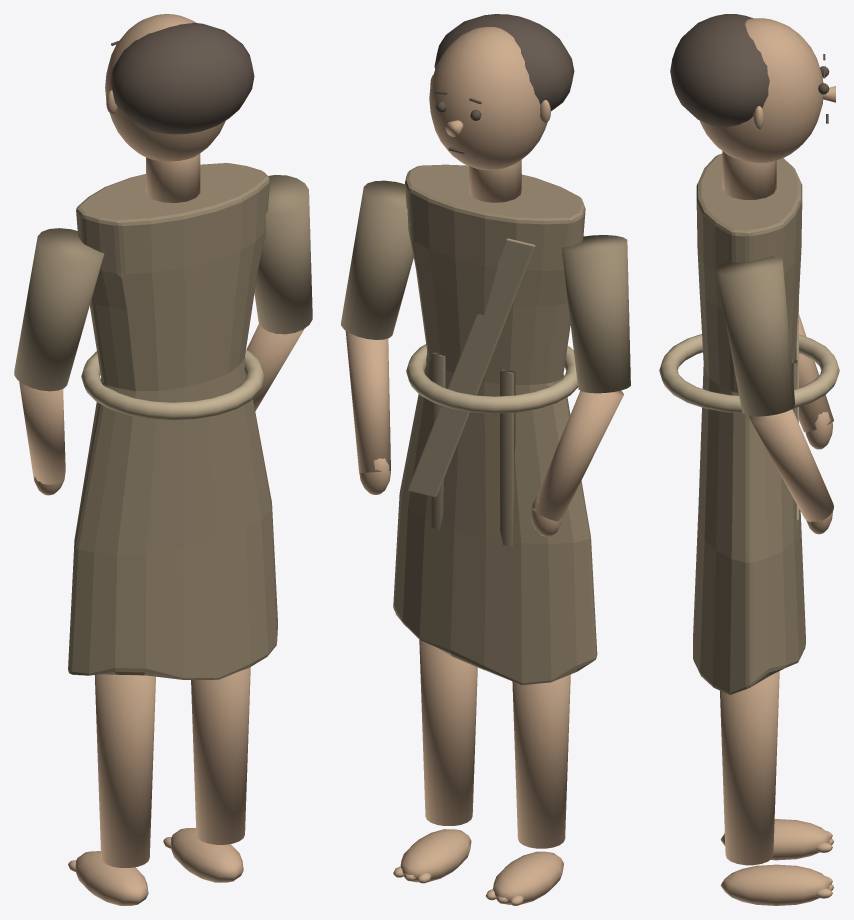
File: man.glb
3 views of the same model, side by side, from view 1: azimuth 30°, elevation 25°; view 2: azimuth 150°, elevation 25°; view 3: azimuth 270°, elevation 25° (orthographic). The views are drawn at different scales.
Visible parts, largest first — view 1: Robe, Hair, LLowerLeg, LSleeve, RLowerLeg, RSleeve, Belt, Head, LForearm, LFoot, RFoot, Neck (+1 smaller); view 2: Robe, Head, LSleeve, RLowerLeg, LLowerLeg, RSleeve, Sash, LForearm, RForearm, Hair, Belt, LFoot (+5 smaller); view 3: Robe, RLowerLeg, RSleeve, Head, Hair, RForearm, Belt, RFoot, Neck, LFoot, LForearm, LHand.
Part boxes in pixels (x1,y1,x2,y2): Robe: (68,163,277,679); Hair: (110,22,254,134); LLowerLeg: (94,674,155,867); LSleeve: (14,228,104,391); RLowerLeg: (191,667,250,844); RSleeve: (254,175,312,334); Belt: (81,349,264,420); Head: (105,14,225,161); LForearm: (19,381,65,484); LFoot: (75,851,148,905); RFoot: (170,828,243,882); Neck: (146,153,200,202); Robe: (393,164,597,685); Head: (429,27,547,170); LSleeve: (562,235,630,393); RLowerLeg: (419,639,477,825); LLowerLeg: (512,674,570,848); RSleeve: (341,180,413,339); Sash: (408,238,535,497); LForearm: (532,390,623,521); RForearm: (345,331,390,473); Hair: (434,14,574,111); Belt: (406,344,577,413); LFoot: (493,851,563,904); Robe: (693,153,805,694); RLowerLeg: (720,671,779,865); RSleeve: (716,256,795,416); Head: (699,18,823,163); Hair: (670,14,769,127); RForearm: (749,409,833,522); Belt: (659,334,839,413); RFoot: (720,864,831,905); Neck: (722,151,776,199); LFoot: (720,819,831,860); LForearm: (799,314,833,432); LHand: (805,412,832,449).
Bounding box in the file's own units: 0.4292 × 1.23 × 0.234.
